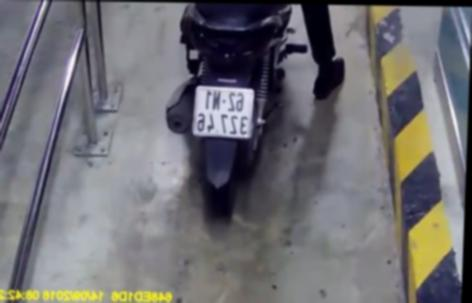License_Plate: (189, 83, 258, 144)
